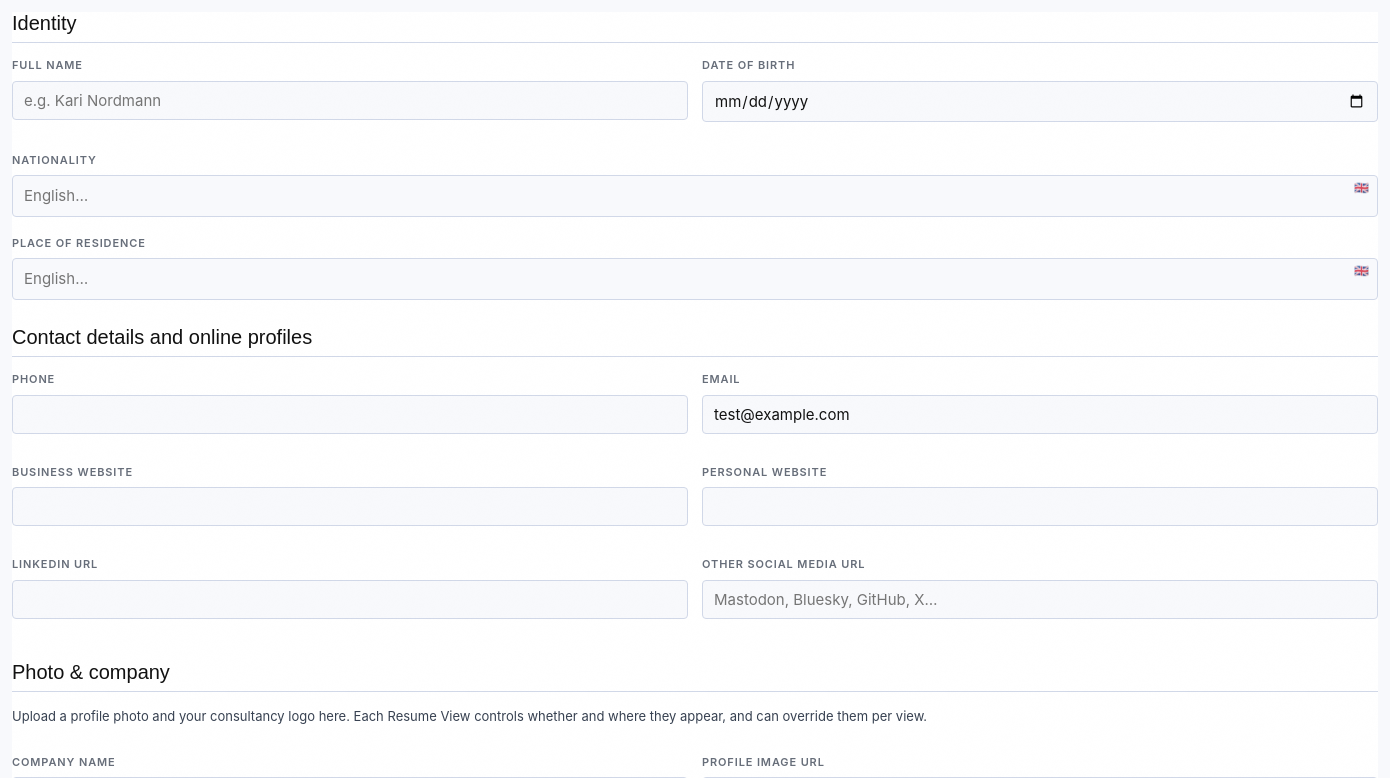
<HeaderEditor> › typing into an EMPTY name keeps the input mounted for the whole word
In the field labelled "Full name": (350, 100) left=12, top=80, right=688, bottom=120, type "Kari Nordmann"
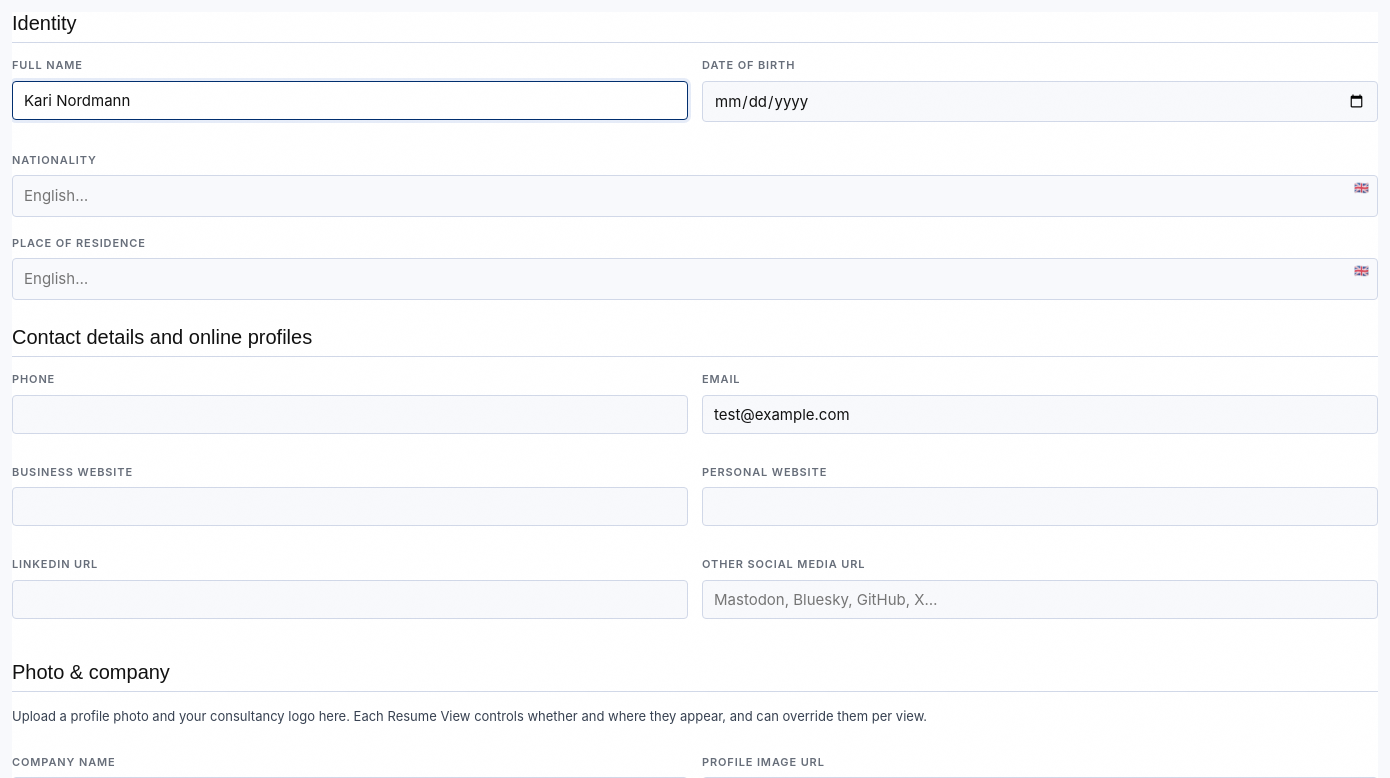
// …and the locked display only after leaving the field.
Press Tab
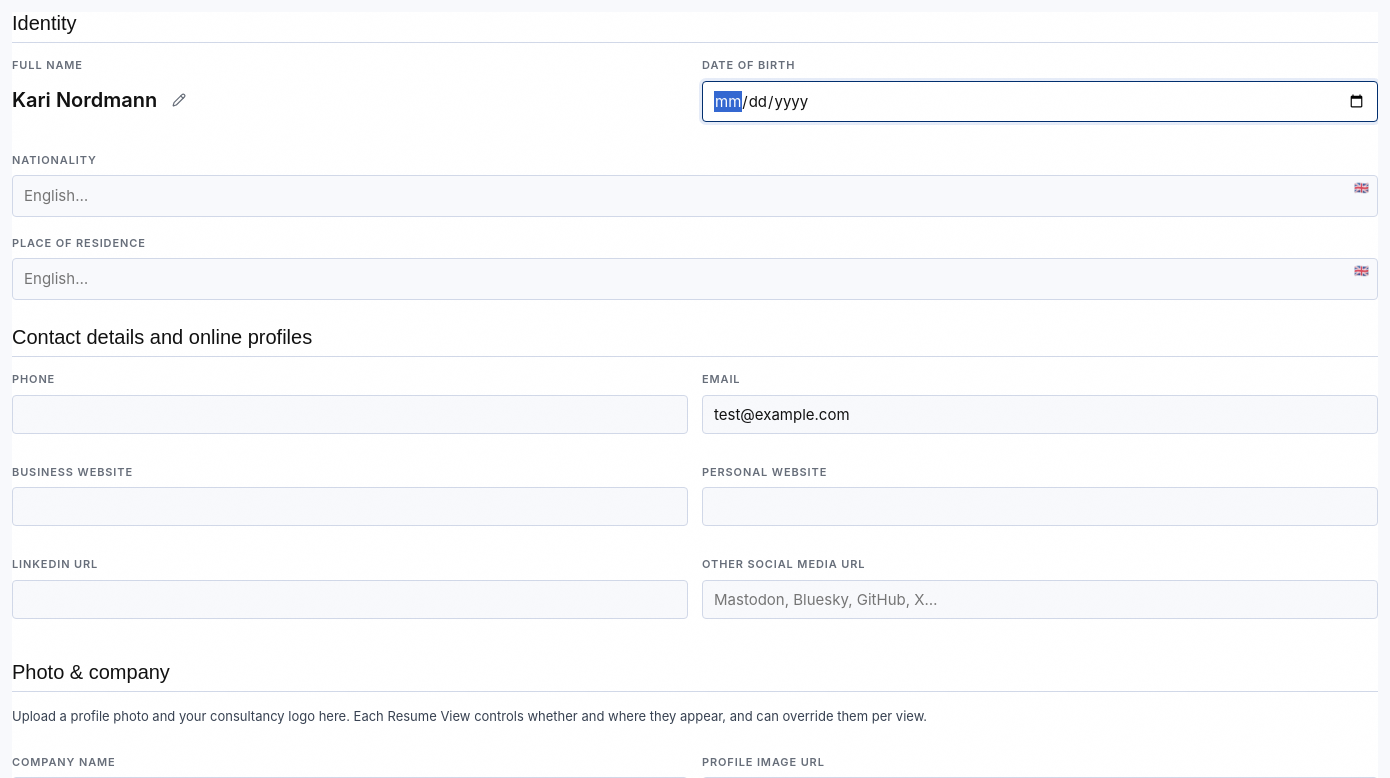
Result: the text "Kari Nordmann" is shown at left=12, top=84, right=157, bottom=114
